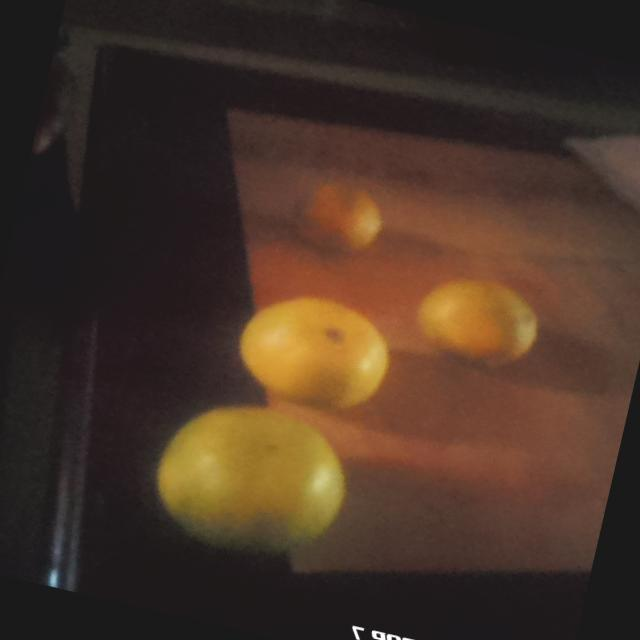Ripe orange: (150, 392, 364, 572), (218, 276, 401, 422), (413, 264, 556, 379), (273, 159, 406, 276)
